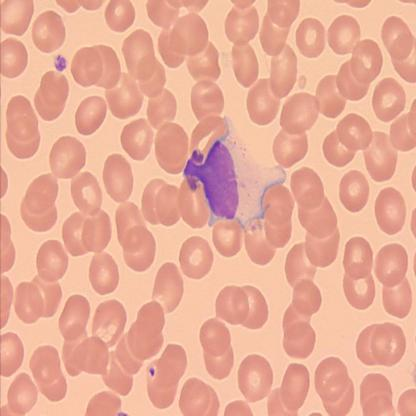Atypical lymphocyte: (184, 116, 287, 235)
